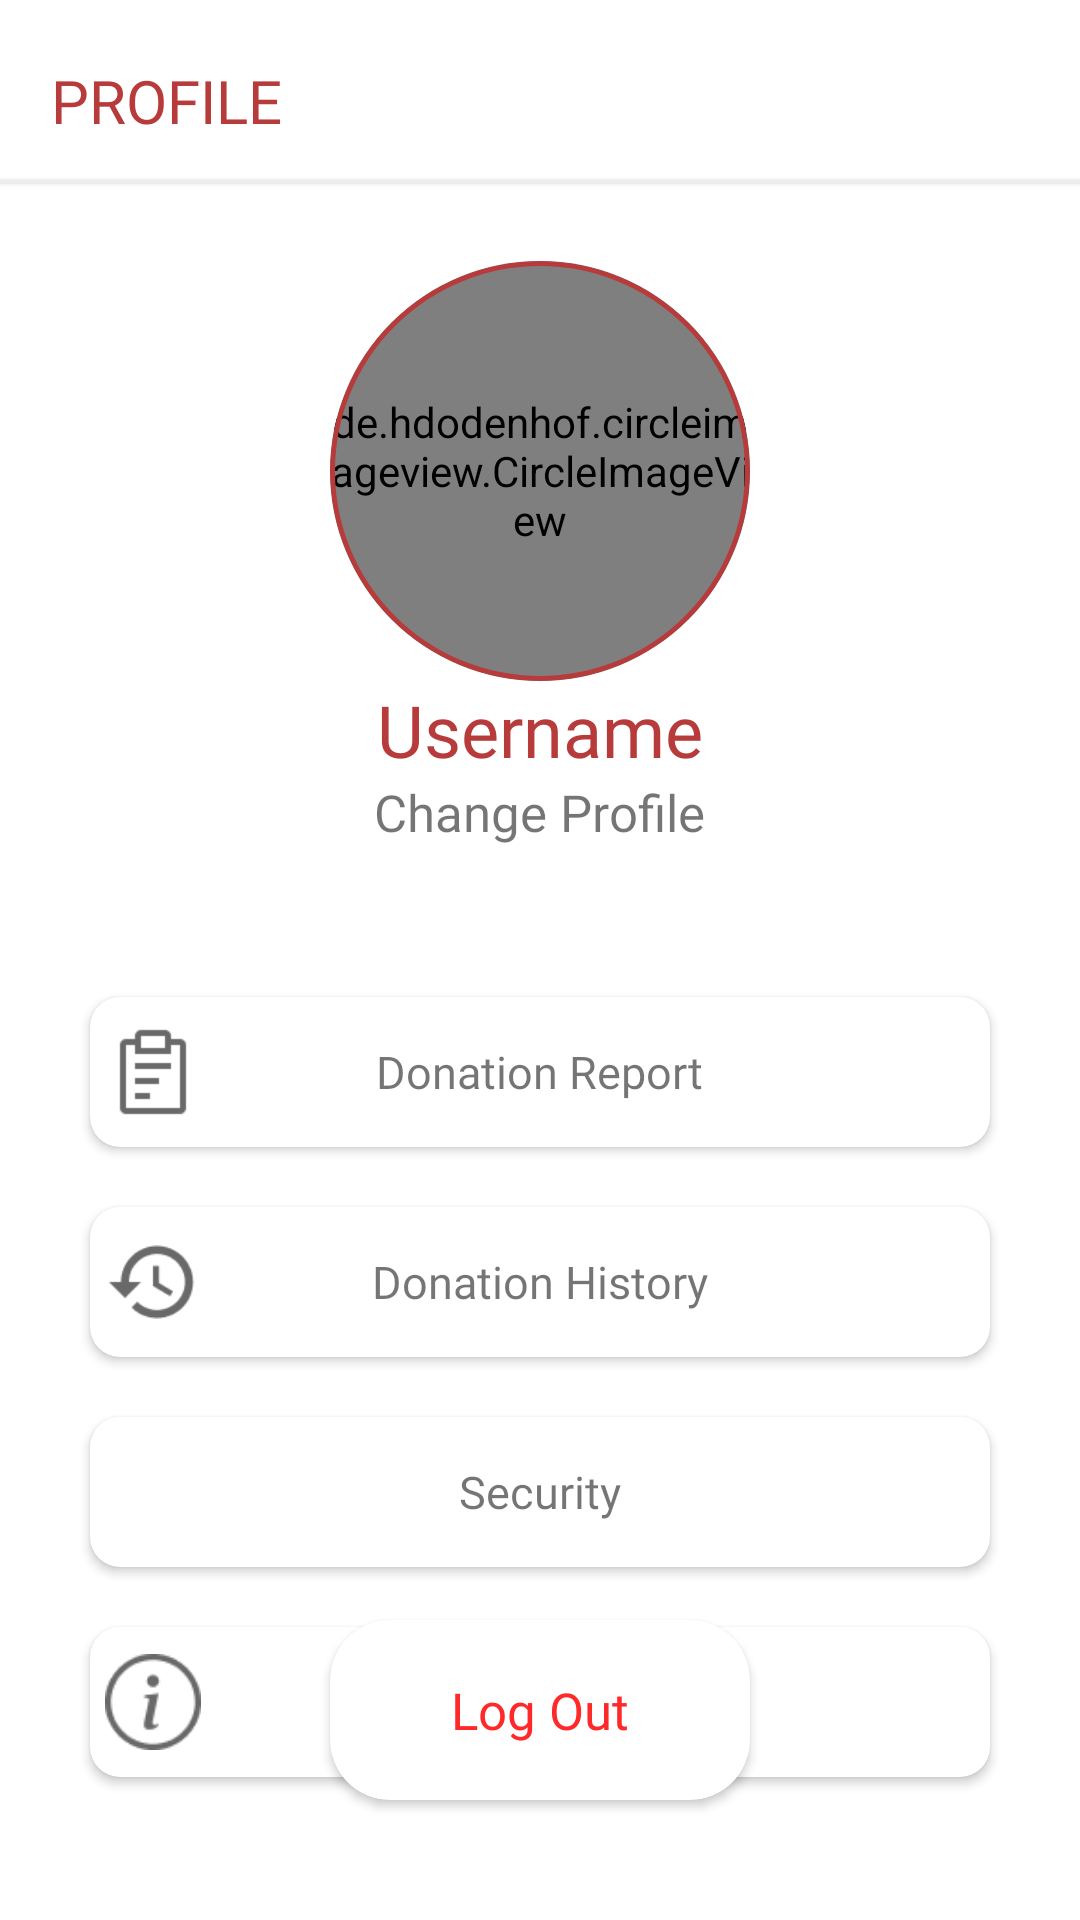

Icons on this 1080px x 1920px Android screen, each with the point to tap as (x=x, y=y):
icabout: (x=153, y=1702)
ichistory: (x=151, y=1282)
icreport: (x=153, y=1072)
